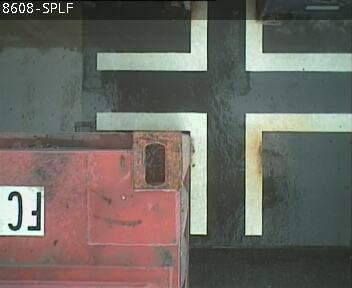groundmarker_1: (98, 111, 351, 236), (96, 1, 352, 72)
